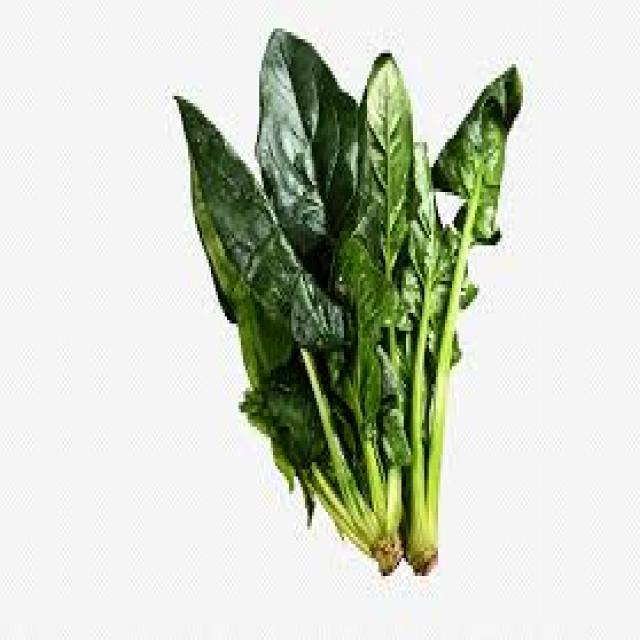spinach: (180, 32, 523, 576)
